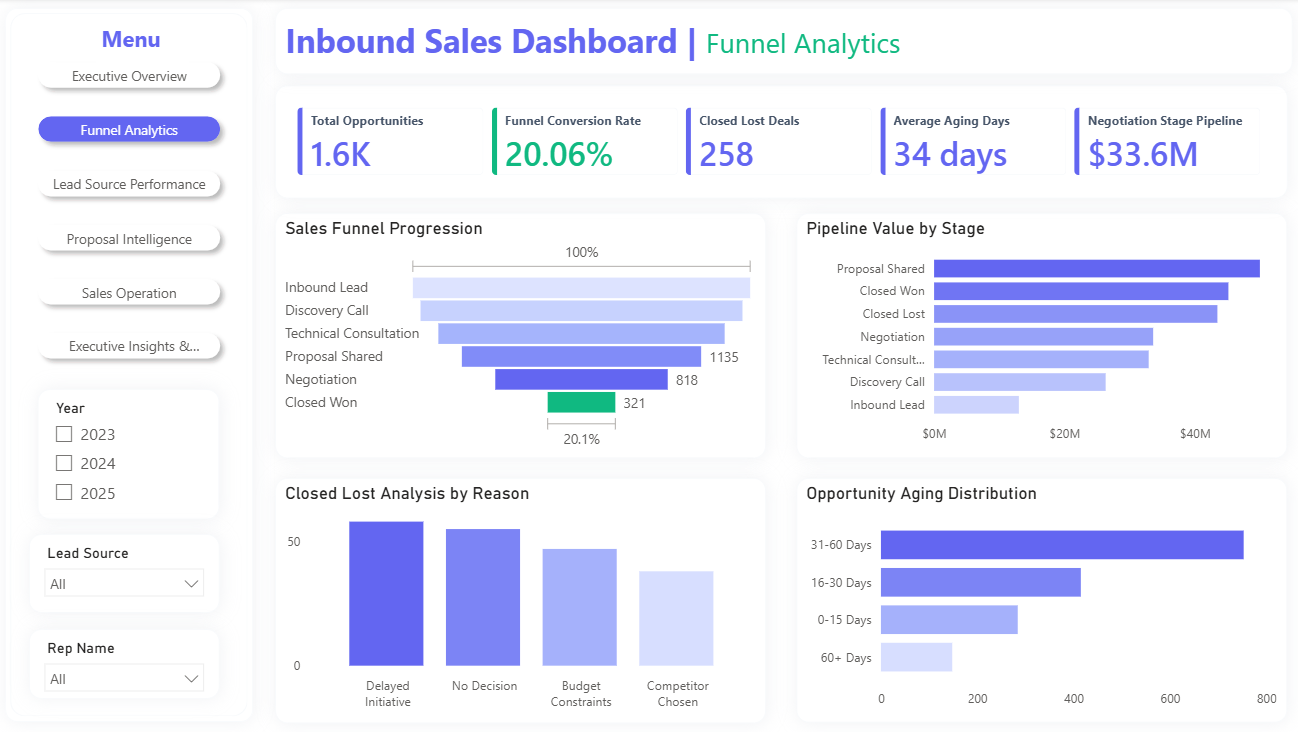

The dashboard page shown, as its layout file describes it:
{"tool":"powerbi","page":{"name":"Funnel Analytics","canvas":[1280,720],"ordinal":1},"visuals":[{"type":"funnel","title":"Sales Funnel Progression","fields":{"Category":["gold dim_pipeline_stage.pipeline_stage"],"Y":["measure_table.Funnel Value"]},"box":[275,210,480,240],"z":0},{"type":"clusteredBarChart","title":"Pipeline Value by Stage","fields":{"Category":["gold dim_pipeline_stage.pipeline_stage"],"Y":["measure_table.Total Pipeline"]},"box":[785,210,480,240],"z":1000},{"type":"barChart","title":"Opportunity Aging Distribution","fields":{"Category":["gold fact_pipeline.aging_bucket"],"Y":["measure_table.Total Opportunities"]},"box":[785,470,480,239.5],"z":2000},{"type":"columnChart","title":"Closed Lost Analysis by Reason","fields":{"Category":["gold fact_pipeline.lost_reason"],"Y":["measure_table.Closed Lost Deals"]},"box":[275,470,480,240],"z":3000},{"type":"cardVisual","fields":{"Data":["measure_table.Total Opportunities","measure_table.Funnel Conversion Rate","measure_table.Closed Lost Deals","measure_table.Avg Aging Days","measure_table.Negotiation Stage Pipeline"]},"box":[275.7,85,990,110],"z":4000},{"type":"shape","box":[11.5,10.1,242.4,698.3],"z":5000},{"type":"pageNavigator","box":[34.6,53.4,196.2,311.6],"z":6000},{"type":"slicer","fields":{"Values":["gold dim_date.date_value.Variation.Date Hierarchy.Year"]},"box":[43.3,382.3,177.5,127],"z":7000},{"type":"slicer","fields":{"Values":["gold dim_lead_source.lead_source"]},"box":[34.6,525.2,186.1,76.5],"z":8000},{"type":"slicer","fields":{"Values":["gold dim_representative.representative_name"]},"box":[34.6,617.5,186.1,67.8],"z":9000},{"type":"textbox","box":[275.7,10,995,65],"z":10000},{"type":"textbox","box":[100,20,90,45],"z":11000}]}

Visuals, with their boxes in screenshot pixels (x1, y1, x2, y2), scaled from the page's 1280x720 canvas onto the 1298x732 screenshot:
"Sales Funnel Progression" funnel: <region>279, 214, 766, 458</region>
"Pipeline Value by Stage" clusteredBarChart: <region>796, 214, 1283, 458</region>
"Opportunity Aging Distribution" barChart: <region>796, 478, 1283, 721</region>
"Closed Lost Analysis by Reason" columnChart: <region>279, 478, 766, 722</region>
cardVisual - measure_table.Total Opportunities x measure_table.Funnel Conversion Rate: <region>280, 86, 1283, 198</region>
shape: <region>12, 10, 257, 720</region>
pageNavigator: <region>35, 54, 234, 371</region>
slicer - gold dim_date.date_value.Variation.Date Hierarchy.Year: <region>44, 389, 224, 518</region>
slicer - gold dim_lead_source.lead_source: <region>35, 534, 224, 612</region>
slicer - gold dim_representative.representative_name: <region>35, 628, 224, 697</region>
textbox: <region>280, 10, 1289, 76</region>
textbox: <region>101, 20, 193, 66</region>
